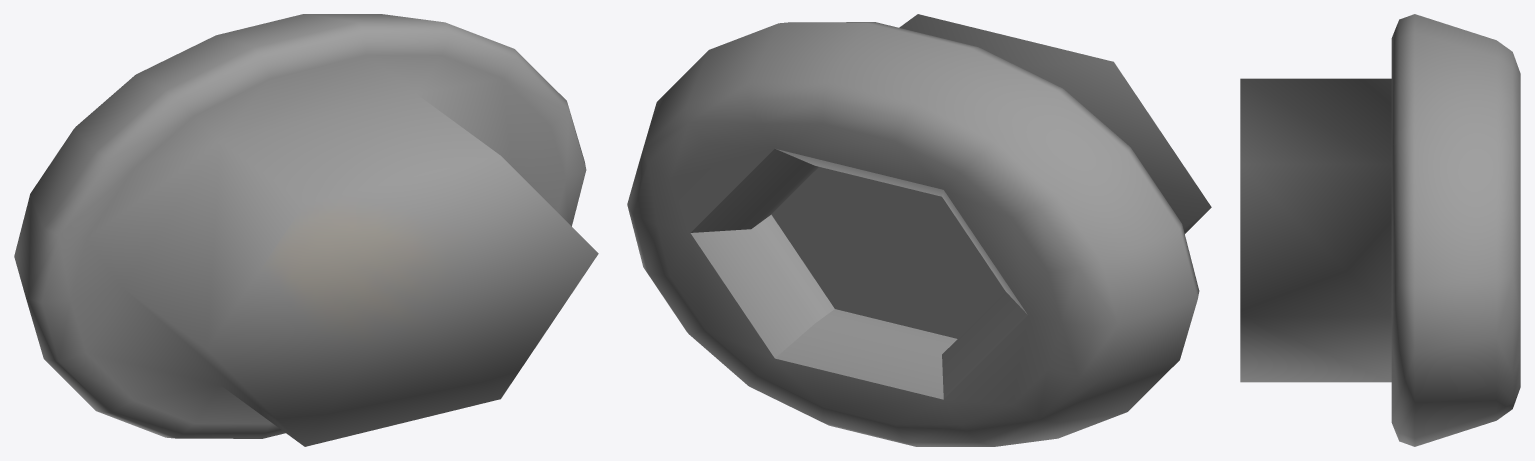
3 renders of one model, left to right at view 1: azimuth 30°, elevation 25°; view 2: azimuth 150°, elevation 25°; view 3: azimuth 270°, elevation 25°, orthographic. The views are drawn at different scales.
Parts seen in each view (by area): view 1: Cylinder011_Material_0_0; view 2: Cylinder011_Material_0_0; view 3: Cylinder011_Material_0_0.
Boxes of the visible parts, bbox=[...] form: Cylinder011_Material_0_0: bbox=[14, 14, 598, 446]; Cylinder011_Material_0_0: bbox=[627, 14, 1211, 446]; Cylinder011_Material_0_0: bbox=[1240, 14, 1520, 446].
Size of the model in its own units: 0.0579 by 0.0386 by 0.0281.
1 material, 1 textured.
